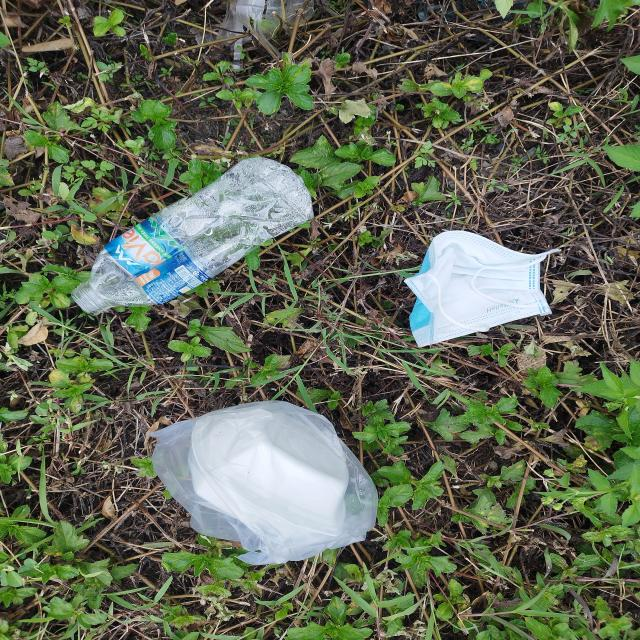bottle: (69, 158, 314, 316)
mask: (404, 230, 564, 348)
trash bag: (150, 402, 376, 567)
